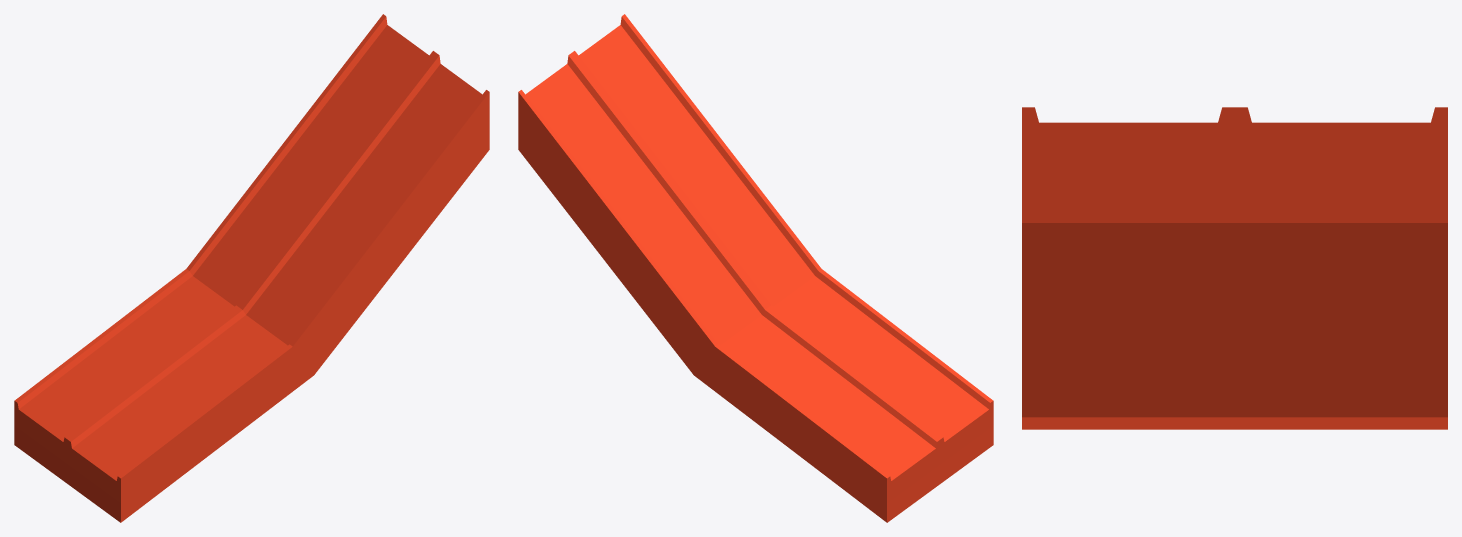
File: roof-metal-moderate-regular-1x2m.fbx
The picture shows the model from 3 angles, left to right: view 1: azimuth 30°, elevation 25°; view 2: azimuth 150°, elevation 25°; view 3: azimuth 270°, elevation 25°; orthographic projection. The views are drawn at different scales.
Parts seen in each view (by area): view 1: roof-metal-moderate-regular-1x2m; view 2: roof-metal-moderate-regular-1x2m; view 3: roof-metal-moderate-regular-1x2m.
Boxes of the visible parts, bbox=[...] form: roof-metal-moderate-regular-1x2m: bbox=[14, 14, 489, 522]; roof-metal-moderate-regular-1x2m: bbox=[518, 14, 993, 522]; roof-metal-moderate-regular-1x2m: bbox=[1022, 107, 1447, 429].
Bounding box in the file's own units: 2 × 1.77 × 1.
